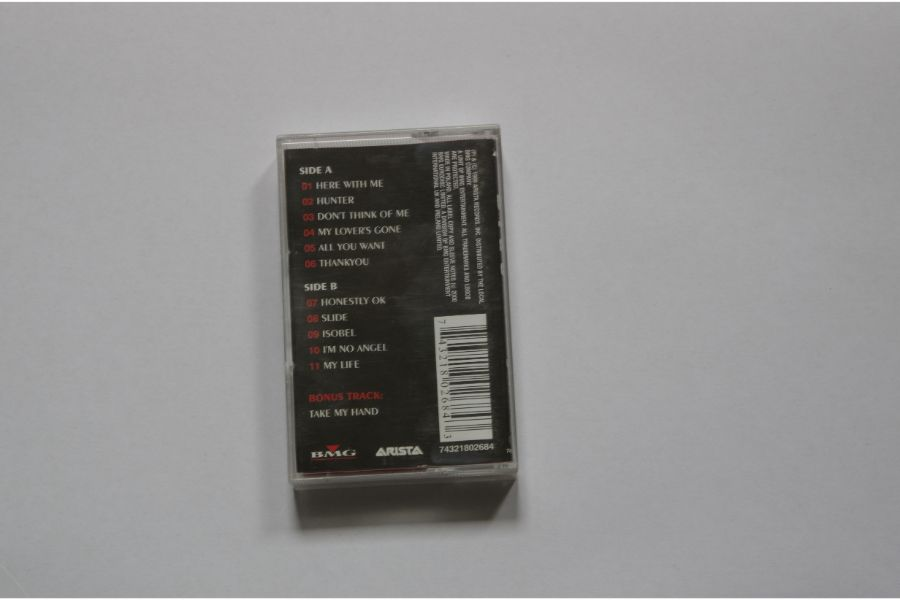album: (275, 124, 523, 489)
